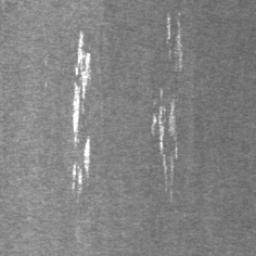White rust: (150, 86, 178, 198), (71, 29, 93, 145), (71, 135, 90, 193), (174, 11, 184, 70), (165, 13, 172, 43)
